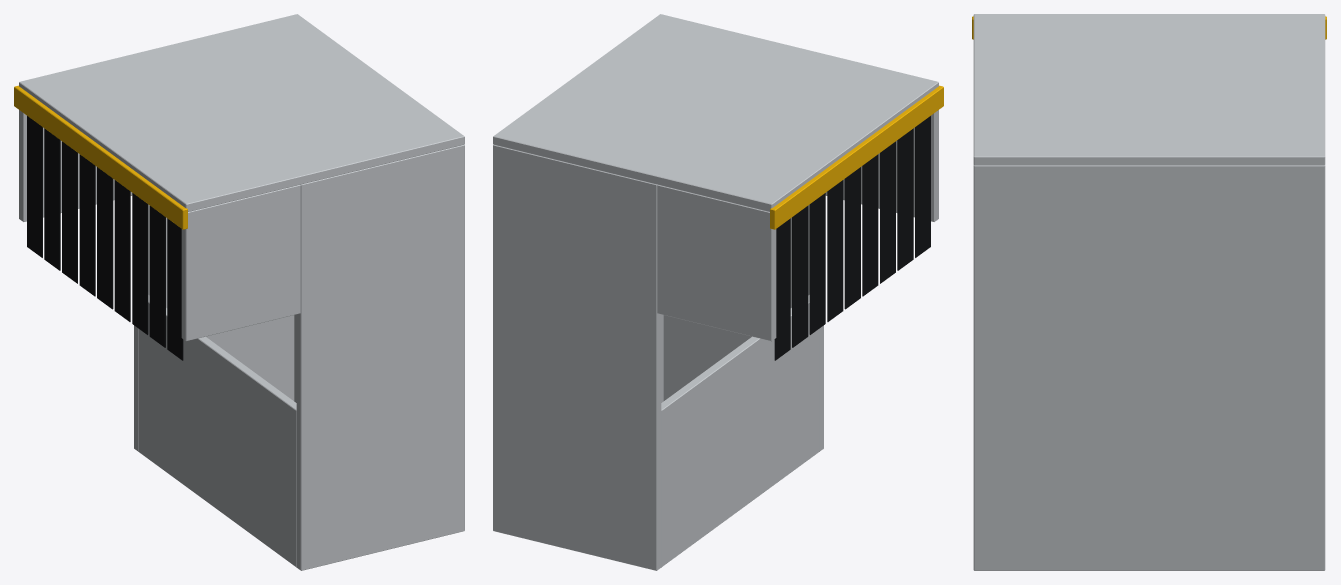
Rendered from remover_hood_1m0.glb.
3 views of the same model, side by side, from view 1: azimuth 30°, elevation 25°; view 2: azimuth 150°, elevation 25°; view 3: azimuth 270°, elevation 25° (orthographic). The views are drawn at different scales.
Visible parts, largest first — view 1: Hood; view 2: Hood; view 3: Hood.
Part boxes in pixels (left/top/right/bottom): Hood: left=14, top=14, right=464, bottom=570; Hood: left=493, top=14, right=943, bottom=570; Hood: left=972, top=14, right=1326, bottom=570.
Bounding box in the file's own units: 1.04 × 1.38 × 1.07.
